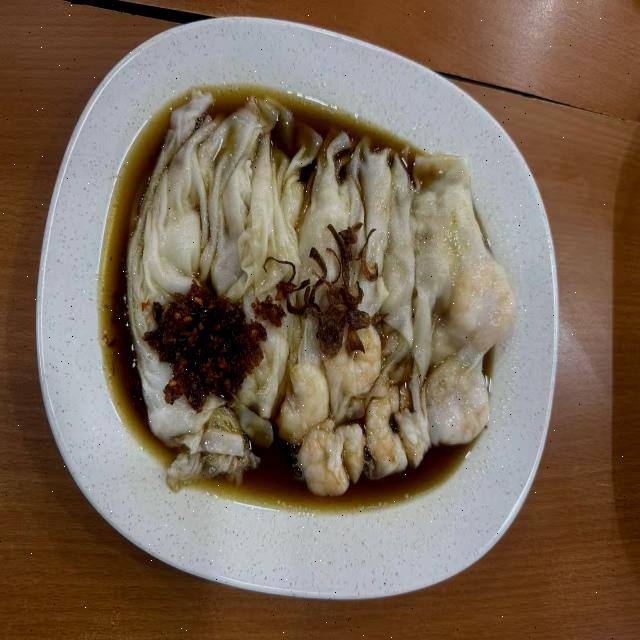Chee Cheong Fun: (71, 40, 529, 520)
